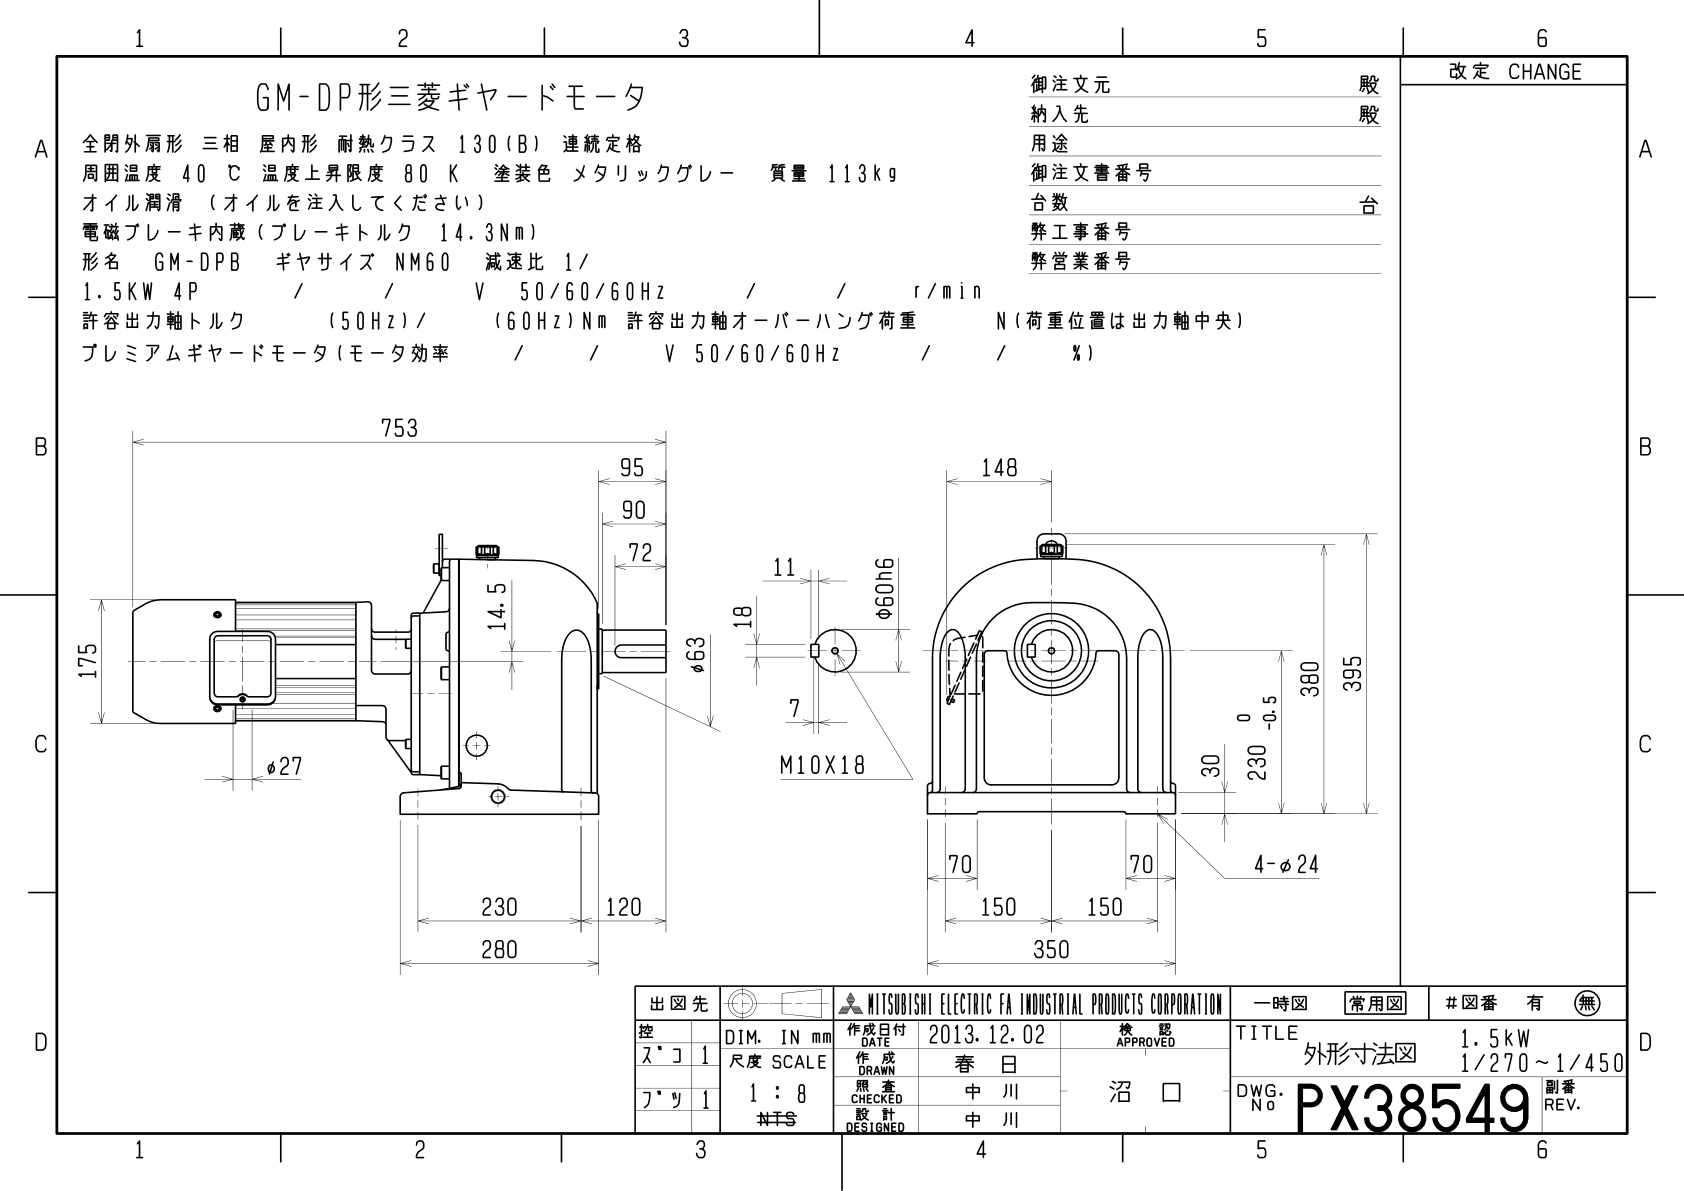GM_D_屋内＿三相_脚: (13, 8, 1684, 1191)
